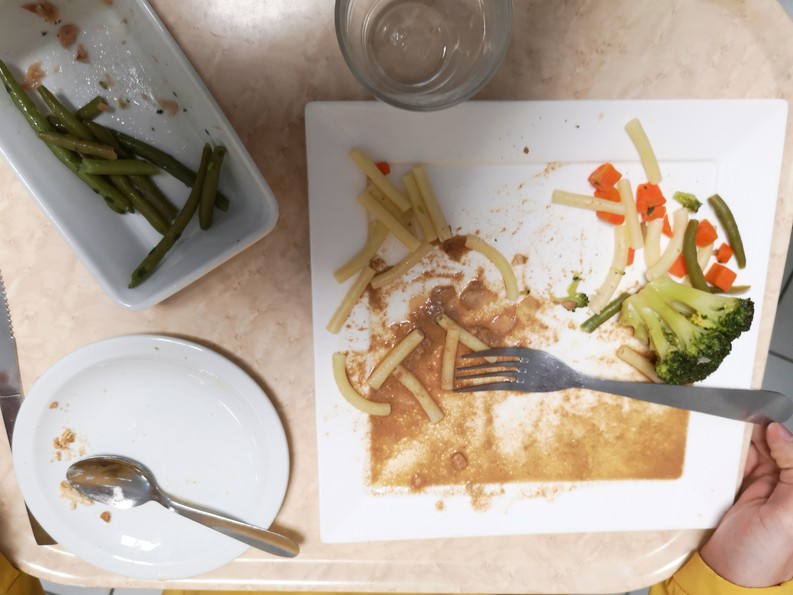cup: (324, 1, 511, 113)
cutlery: (457, 338, 793, 432), (63, 454, 318, 565)
orga: (2, 57, 243, 275), (345, 151, 493, 433), (580, 153, 757, 261), (629, 268, 749, 399)
